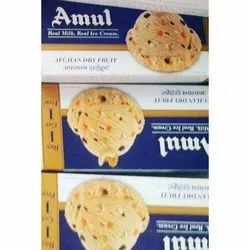Amul: (154, 135, 215, 161), (48, 5, 116, 28)
